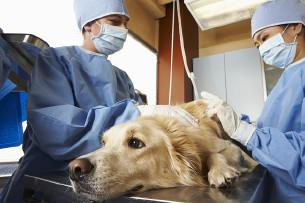OK: (255, 22, 298, 68), (93, 10, 130, 54)
